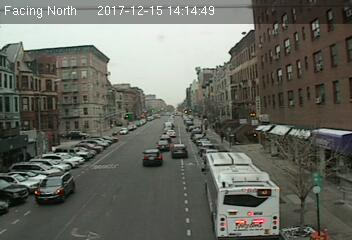bus: (203, 152, 281, 237)
car: (33, 172, 76, 202), (142, 149, 162, 166), (172, 143, 188, 158), (155, 140, 170, 151), (167, 129, 176, 137)
